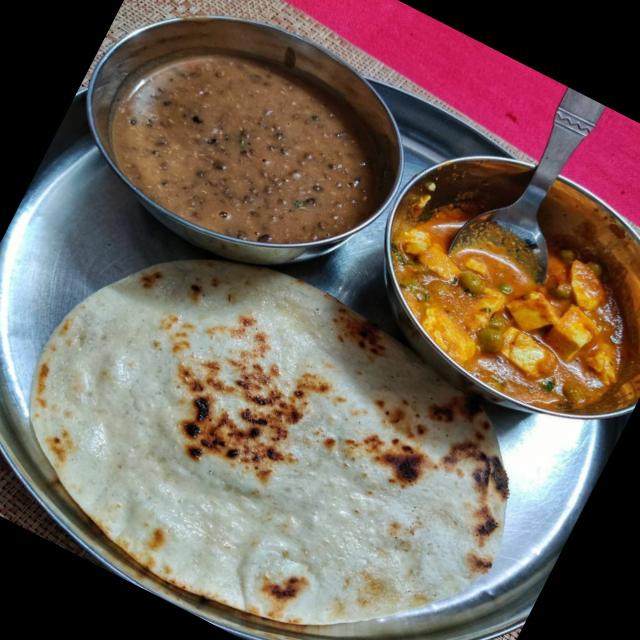ShahiPaneer: (350, 142, 640, 444)
